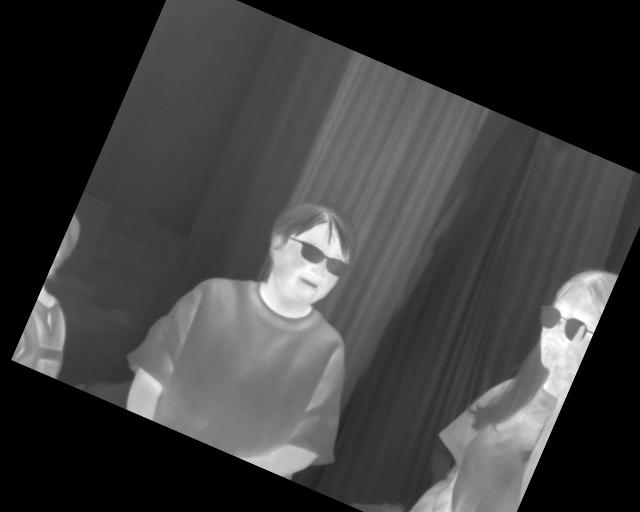face: (247, 186, 368, 316), (525, 253, 618, 380)
